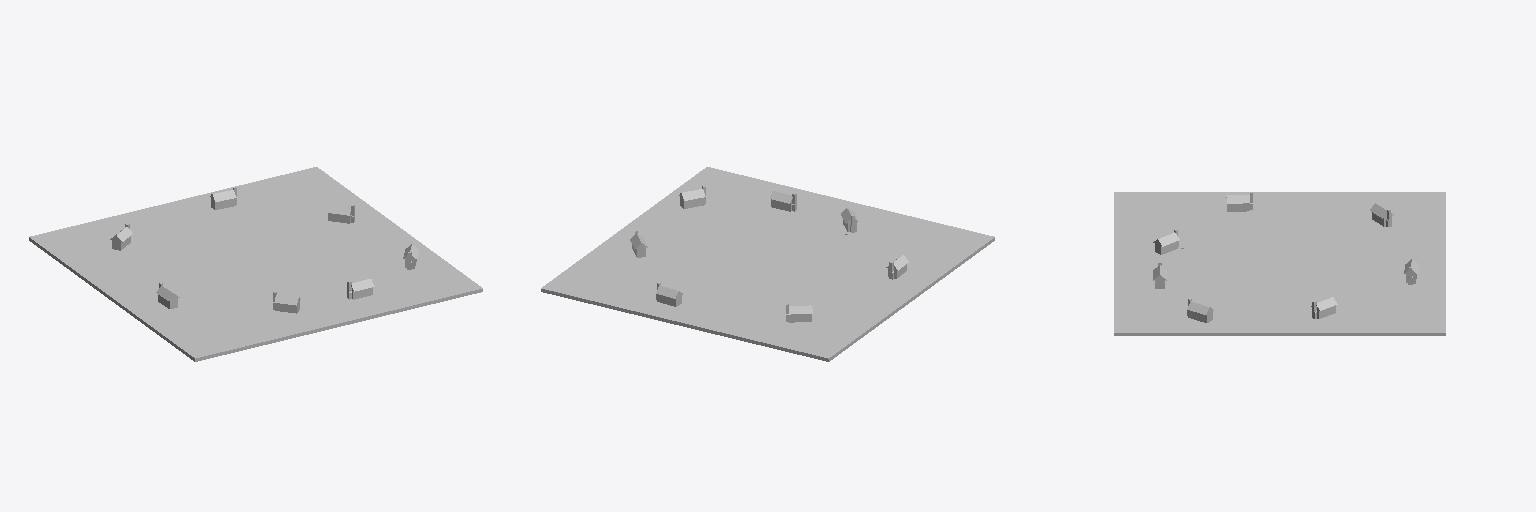
File: test_town.obj
3 views of the same model, side by side, from view 1: azimuth 30°, elevation 25°; view 2: azimuth 150°, elevation 25°; view 3: azimuth 270°, elevation 25° (orthographic).
Parts seen in each view (by area): view 1: mesh08; view 2: mesh08; view 3: mesh08.
Part boxes in pixels (left/top/right/bottom): mesh08: left=29, top=167, right=482, bottom=361; mesh08: left=541, top=167, right=994, bottom=361; mesh08: left=1114, top=192, right=1445, bottom=335.
Size of the model in its own units: 4167 by 280 by 4167.